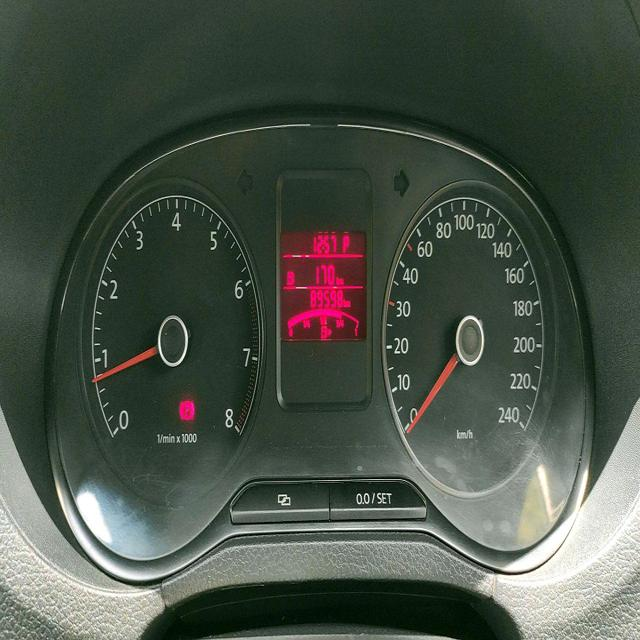odometer: (309, 288, 343, 310)
